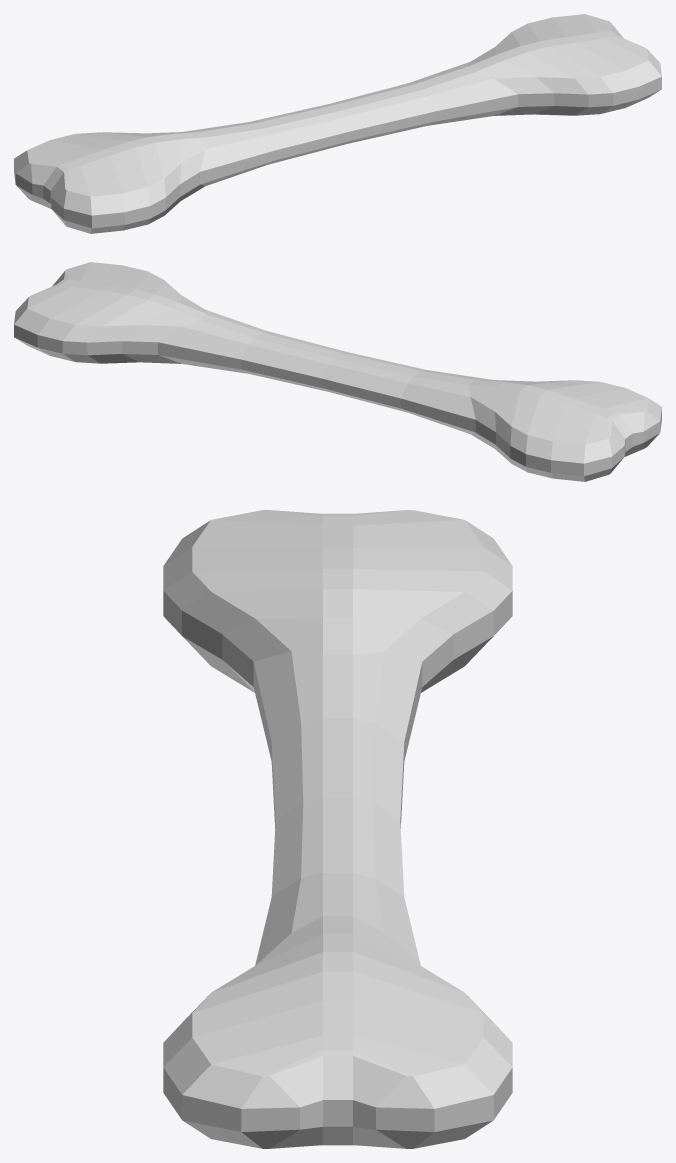
Rendered from BeanBone.fbx.
3 views of the same model, one above another, from view 1: azimuth 30°, elevation 25°; view 2: azimuth 150°, elevation 25°; view 3: azimuth 270°, elevation 25° (orthographic). The views are drawn at different scales.
Parts seen in each view (by area): view 1: BeanBone; view 2: BeanBone; view 3: BeanBone.
Boxes of the visible parts, x1=… form: BeanBone: x1=14, y1=14, x2=661, y2=233; BeanBone: x1=14, y1=262, x2=661, y2=481; BeanBone: x1=163, y1=510, x2=512, y2=1148.
Bounding box in the file's own units: 0.5518 × 0.0525 × 0.1399.
Materials: 1 (1 with a texture image).
